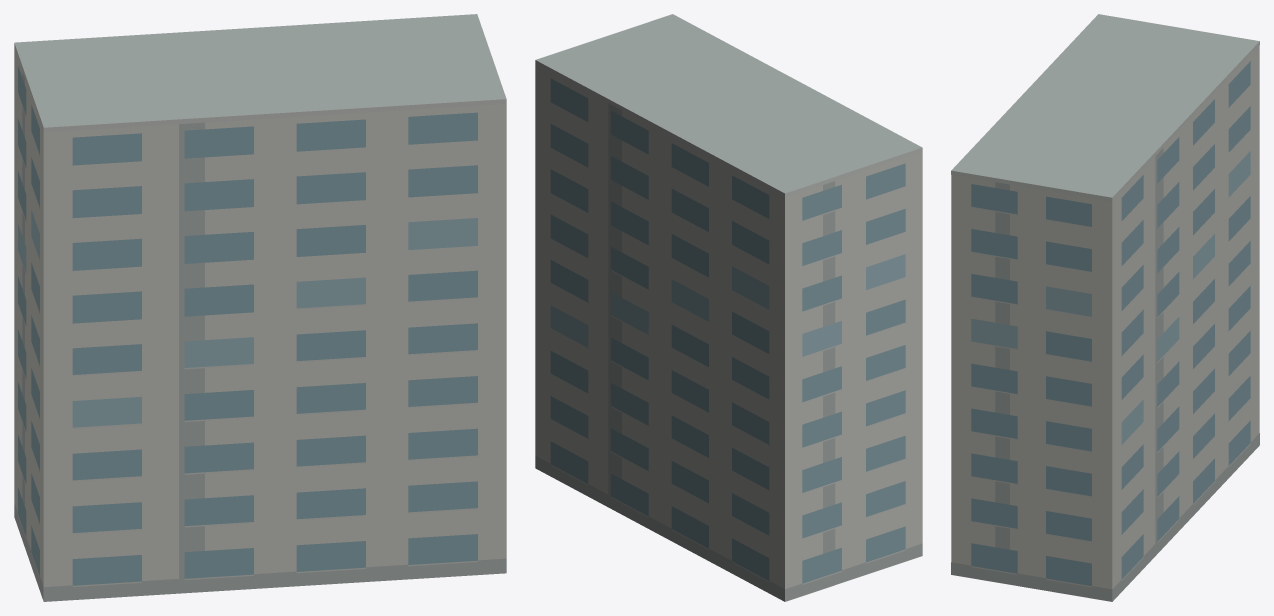
File: residential-4fd6a6c3-99c0-4b7b-95f0-4a67ce31ab9c.glb
The picture shows the model from 3 angles, left to right: view 1: azimuth 30°, elevation 25°; view 2: azimuth 150°, elevation 25°; view 3: azimuth 270°, elevation 25°; orthographic projection. The views are drawn at different scales.
Visible parts, largest first — view 1: residential-4fd6a6c3-99c0-4b7b-95f0-4a67ce31ab9c.tmp; view 2: residential-4fd6a6c3-99c0-4b7b-95f0-4a67ce31ab9c.tmp; view 3: residential-4fd6a6c3-99c0-4b7b-95f0-4a67ce31ab9c.tmp.
Part boxes in pixels (<box>): residential-4fd6a6c3-99c0-4b7b-95f0-4a67ce31ab9c.tmp: <box>14,14,506,601</box>; residential-4fd6a6c3-99c0-4b7b-95f0-4a67ce31ab9c.tmp: <box>535,14,922,601</box>; residential-4fd6a6c3-99c0-4b7b-95f0-4a67ce31ab9c.tmp: <box>951,14,1259,601</box>.
Size of the model in its own units: 23.4 by 24 by 16.62.
